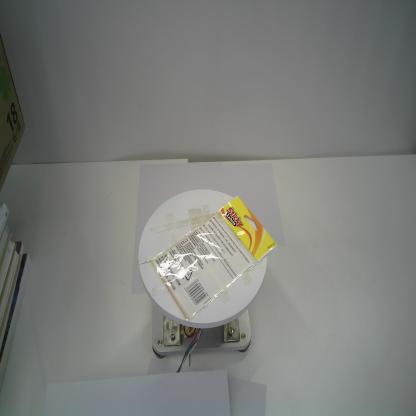Stationery: (152, 194, 278, 321)
